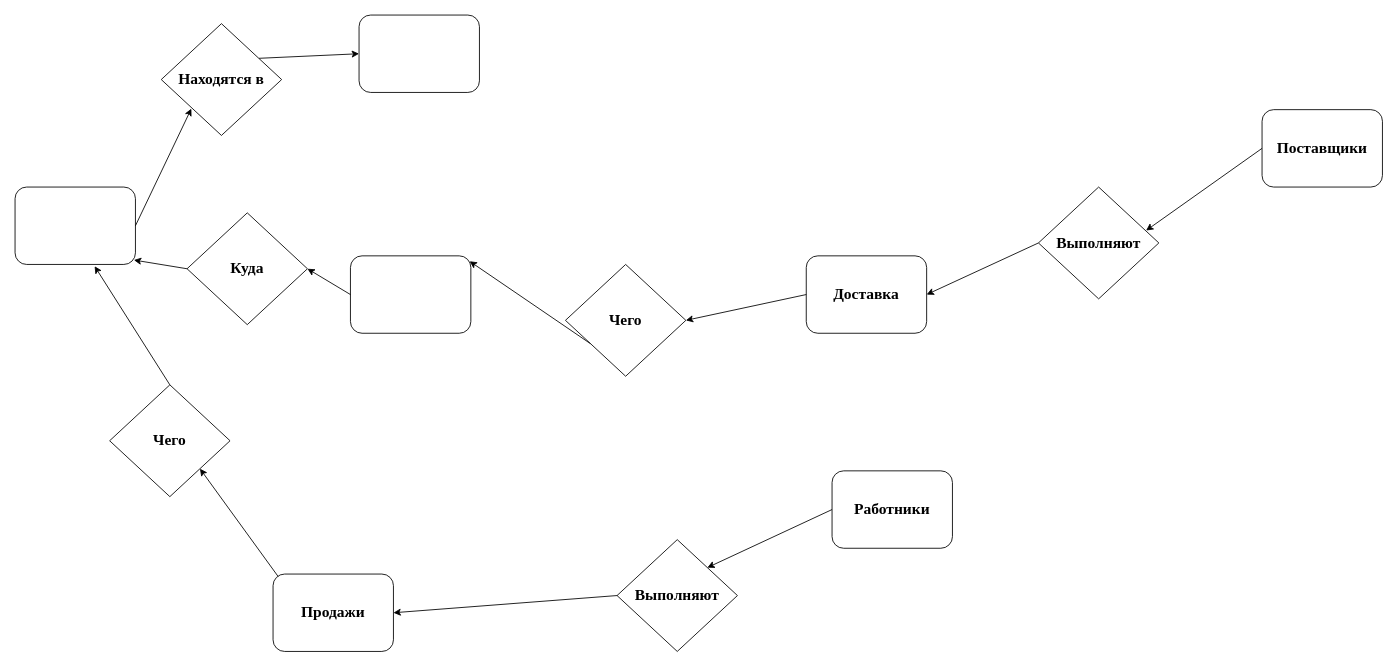
Some shapes in this 1398 by 667 pixel diagram are drawn without their labels. Here are the shapes that lost their labels. From the top down, the box of each, then its label:
(358, 14, 479, 92): Категории
(14, 186, 135, 264): Продукты
(350, 255, 471, 333): Доставка продуктов
